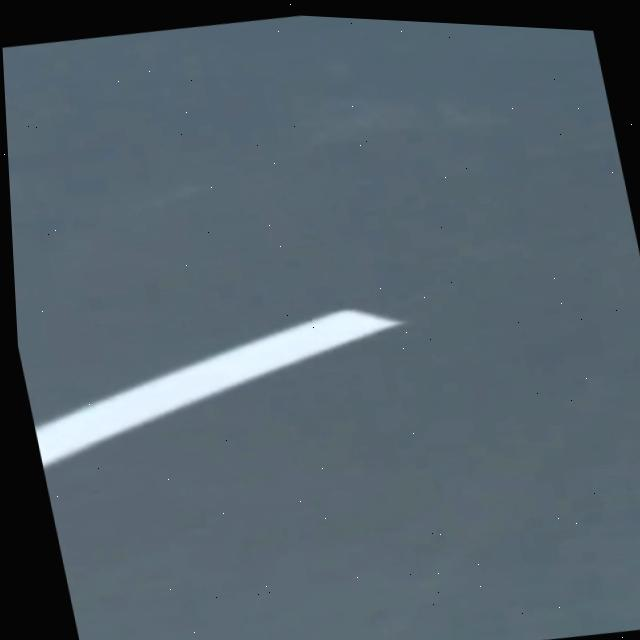center: (35, 310, 402, 468)
